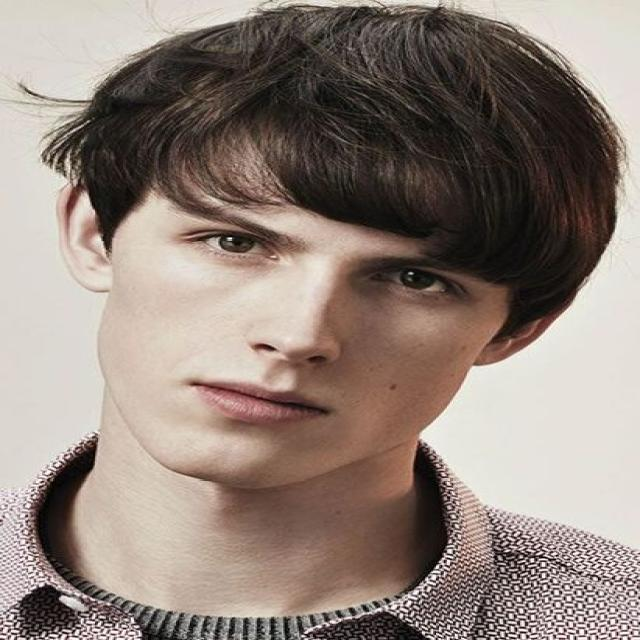Nonhelmet: (28, 0, 634, 489)
